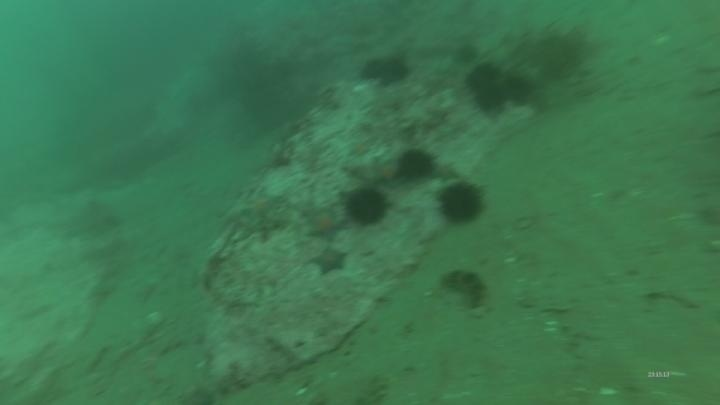echinus: (436, 179, 487, 228), (343, 185, 391, 229), (469, 71, 510, 115), (394, 146, 438, 183), (464, 61, 505, 97), (500, 71, 536, 108), (384, 61, 412, 89), (451, 41, 480, 68), (363, 55, 384, 81)
starfish: (236, 187, 284, 229), (302, 205, 347, 243), (308, 245, 350, 278), (368, 155, 404, 187), (344, 137, 375, 160)
